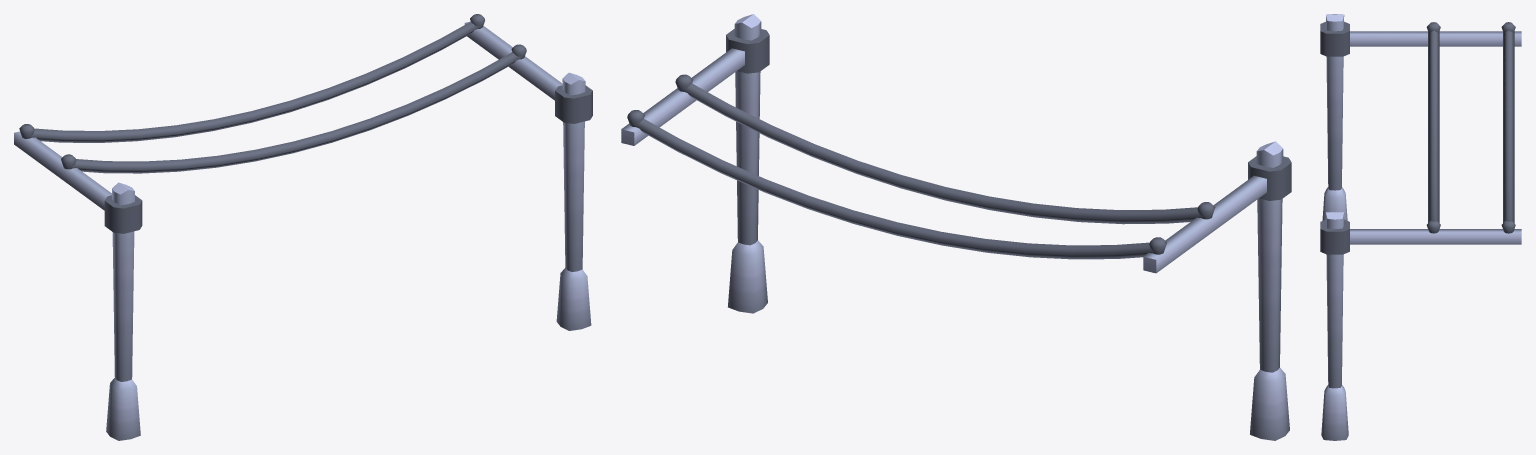
File: electricity-side-wide.glb
3 renders of one model, left to right at view 1: azimuth 30°, elevation 25°; view 2: azimuth 150°, elevation 25°; view 3: azimuth 270°, elevation 25°, orthographic. The views are drawn at different scales.
Parts seen in each view (by area): view 1: electricity-side-wide; view 2: electricity-side-wide; view 3: electricity-side-wide.
Boxes of the visible parts, x1,y1,x2,y2 form: electricity-side-wide: (14, 14, 592, 440); electricity-side-wide: (621, 14, 1291, 440); electricity-side-wide: (1320, 14, 1521, 440).
Bounding box in the file's own units: 1.06 × 0.525 × 0.4305.
1 material, 1 textured.
